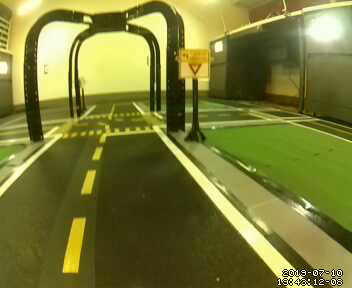Turn Yield: (177, 48, 210, 80)
